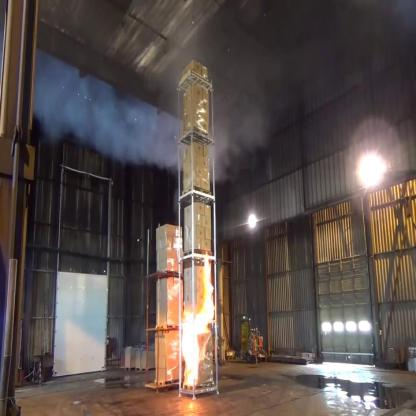fire: (178, 253, 215, 392)
